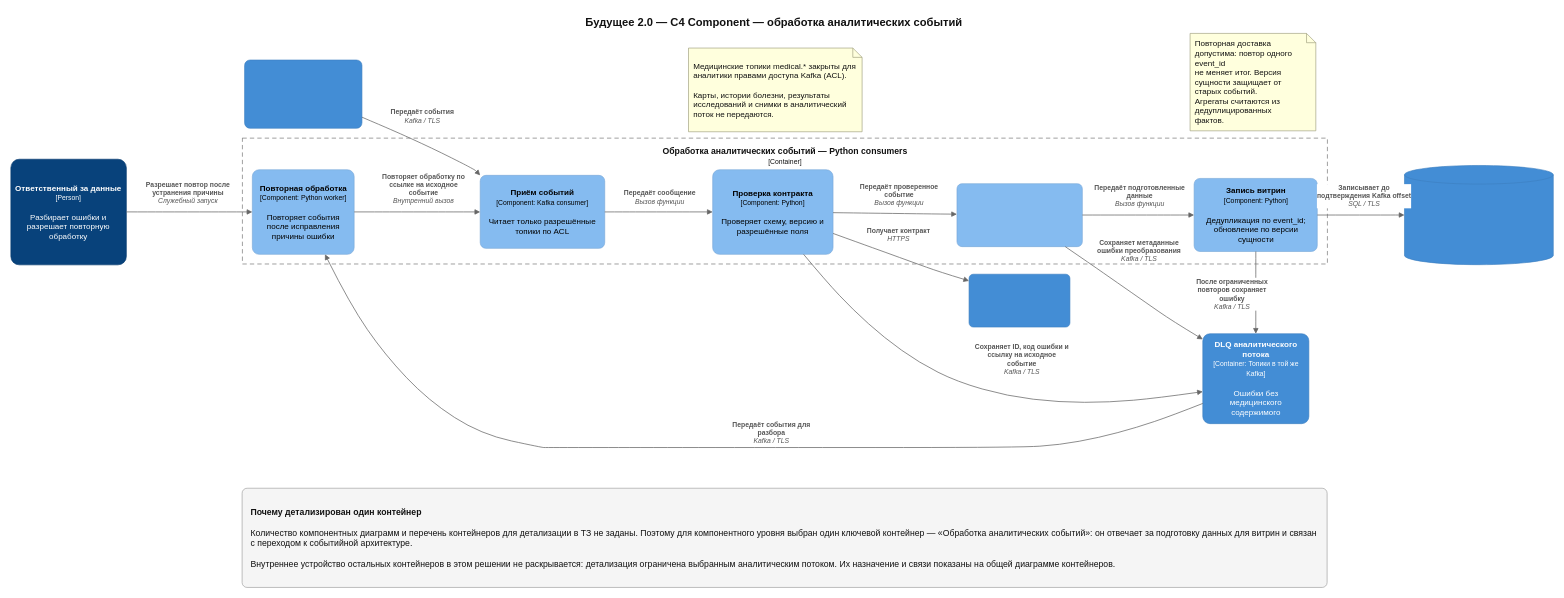
The diagram is 1564 pixels wide and 598 high, and some of its shapes have lost their labels. Each missing label, with the centre of its shape:
"Аналитические витрины [Container: ClickHouse] Доменные наборы и общие показатели" belongs at point 1478,215.
"Каталог схем [Container: Schema Registry] Версии контрактов" belongs at point 1019,300.
"Платформа событий [Container: Kafka] Разрешённые аналитические топики" belongs at point 303,93.
"Подготовка фактов [Component: Python] Нормализует поля и единицы измерения" belongs at point 1019,215.
